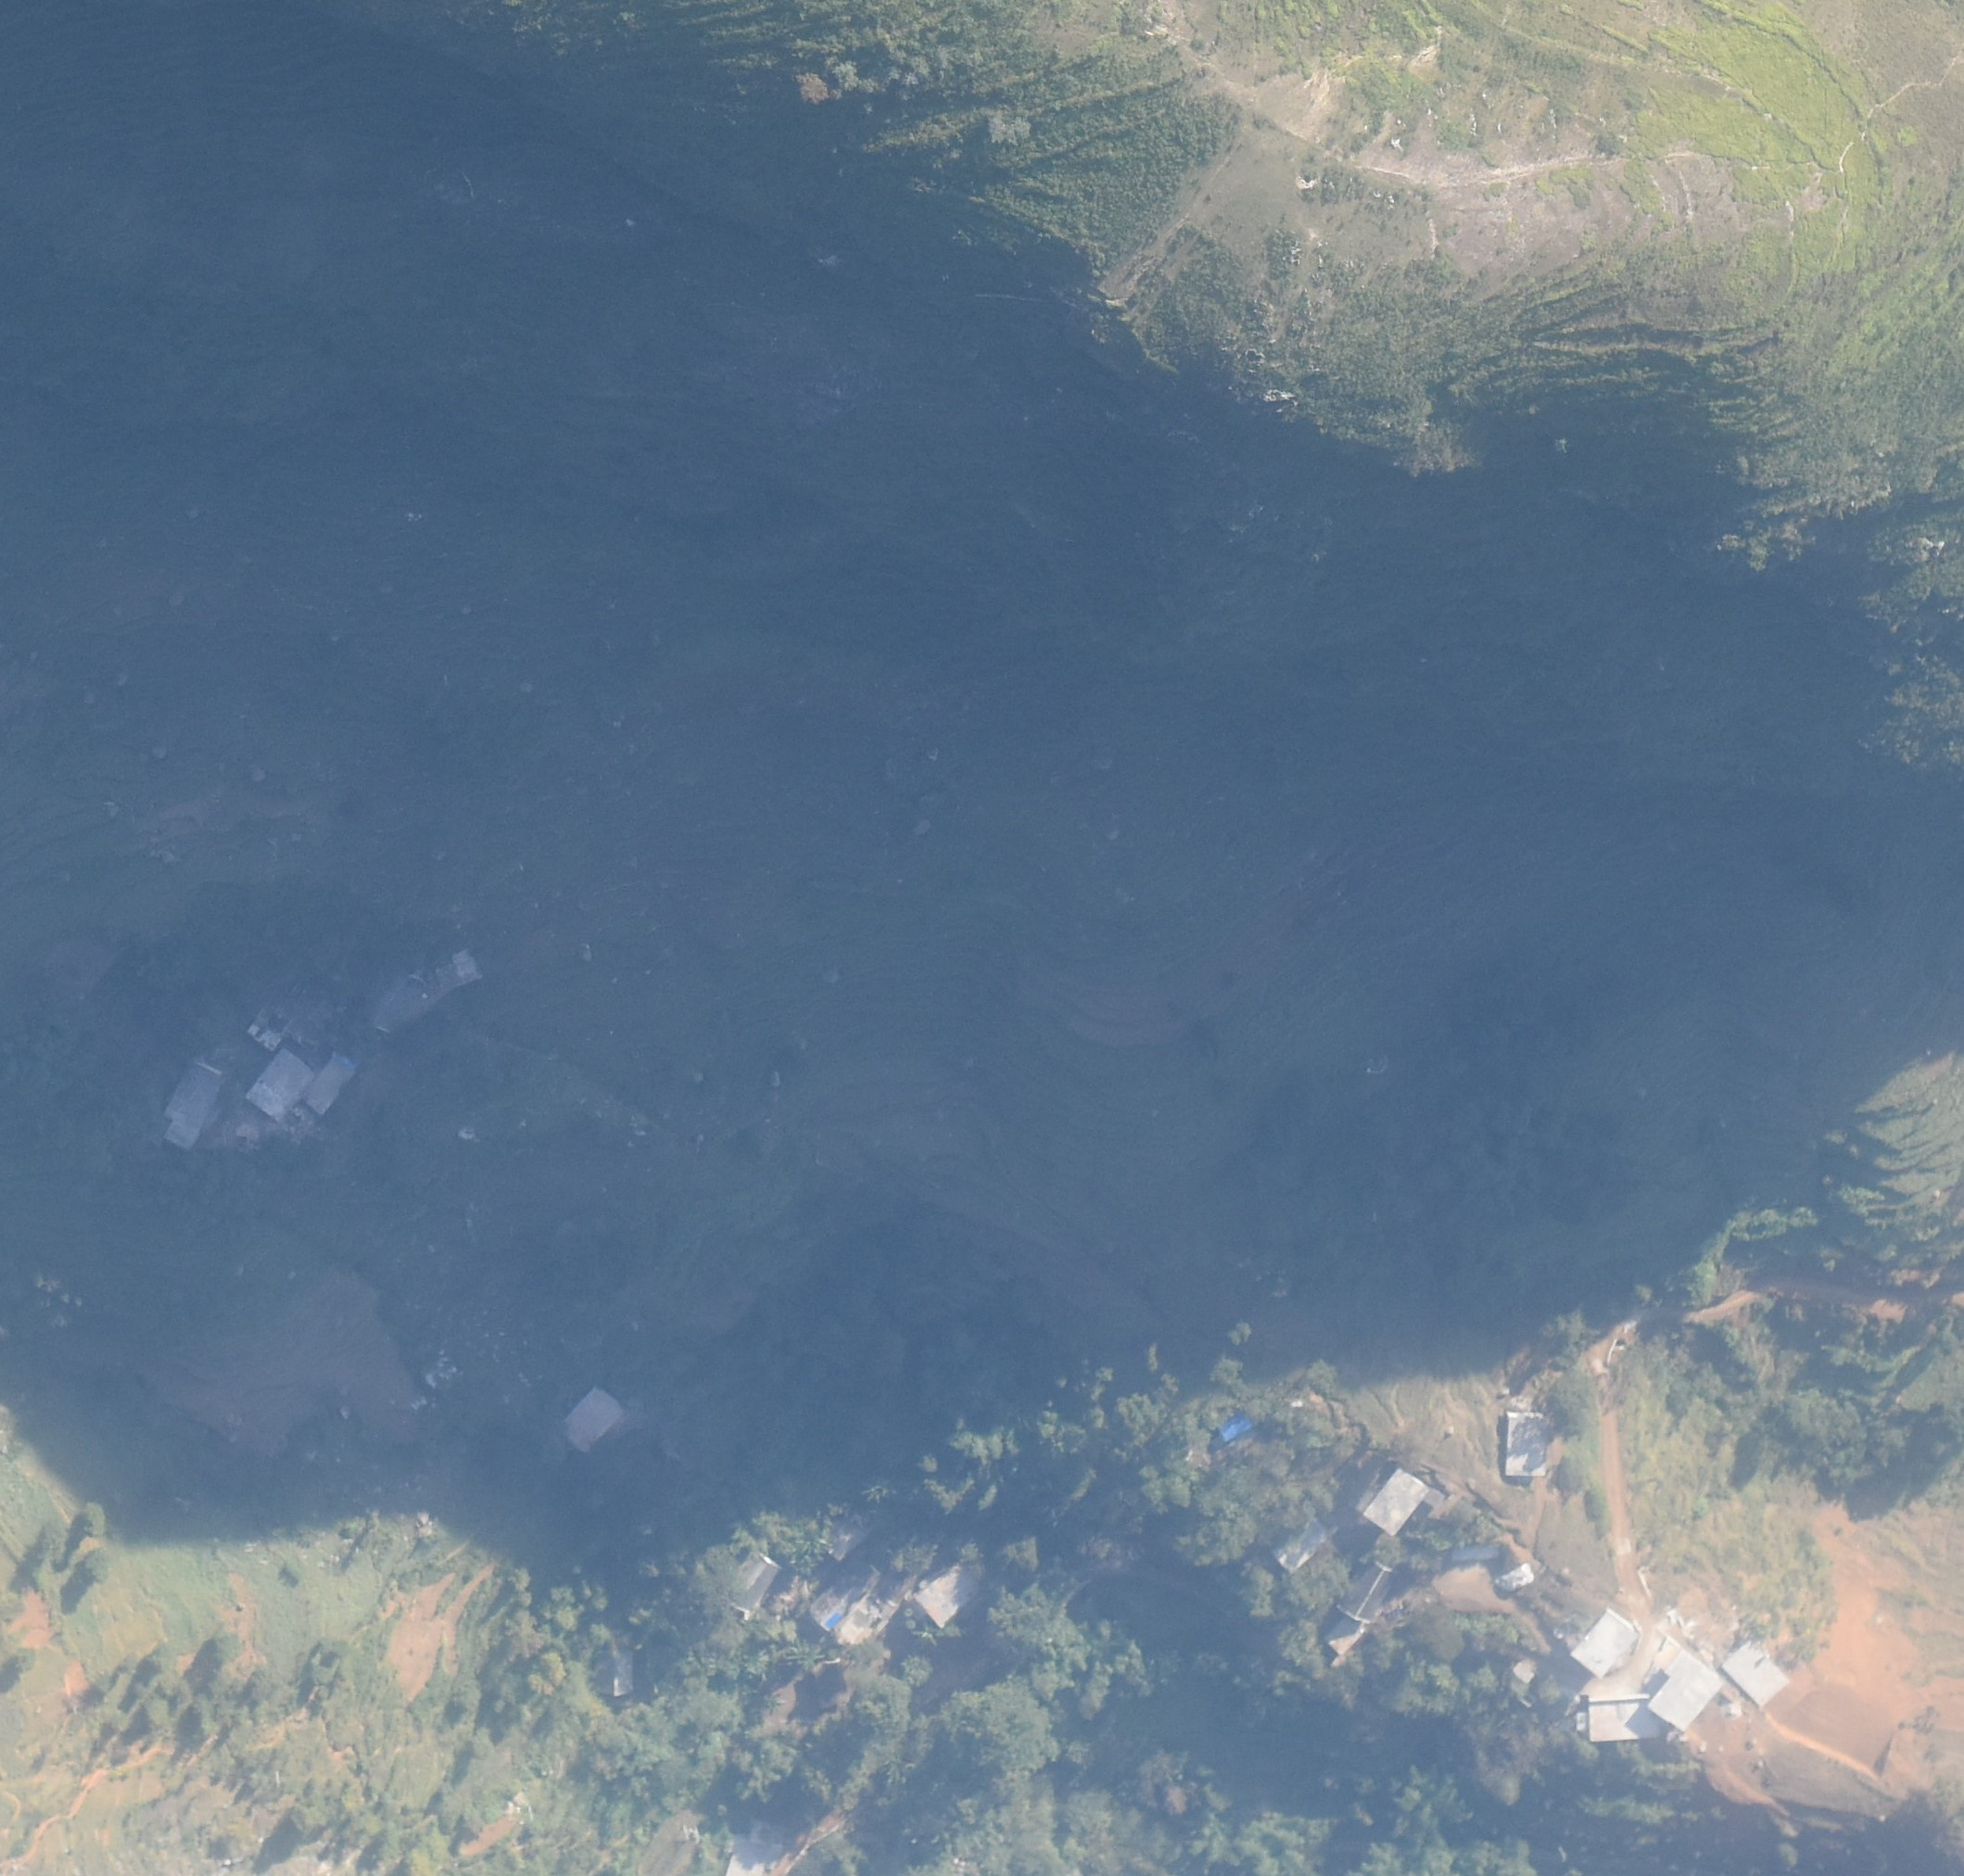building: (372, 945, 484, 1034), (249, 970, 345, 1048), (1647, 1646, 1726, 1732), (167, 1057, 226, 1154), (917, 1557, 991, 1629), (249, 1047, 314, 1126), (1571, 1606, 1640, 1680), (1722, 1641, 1790, 1708), (1363, 1466, 1426, 1538), (561, 1385, 624, 1453), (1338, 1555, 1394, 1625), (726, 1552, 784, 1615), (1587, 1694, 1662, 1741), (1271, 1513, 1329, 1573), (307, 1047, 356, 1117), (824, 1506, 880, 1559), (1503, 1411, 1547, 1478), (596, 1638, 635, 1695), (1322, 1615, 1371, 1657), (1448, 1541, 1499, 1560)
prefabricated-house: (1215, 1411, 1254, 1438)
